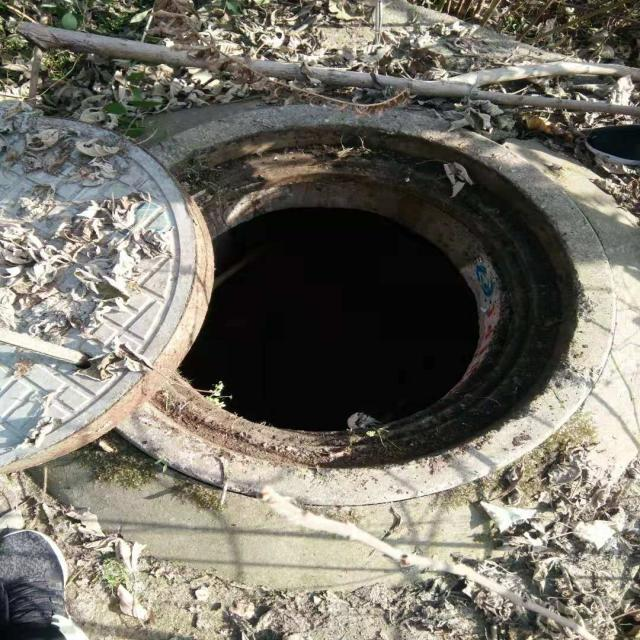Faulty: (5, 106, 614, 508)
